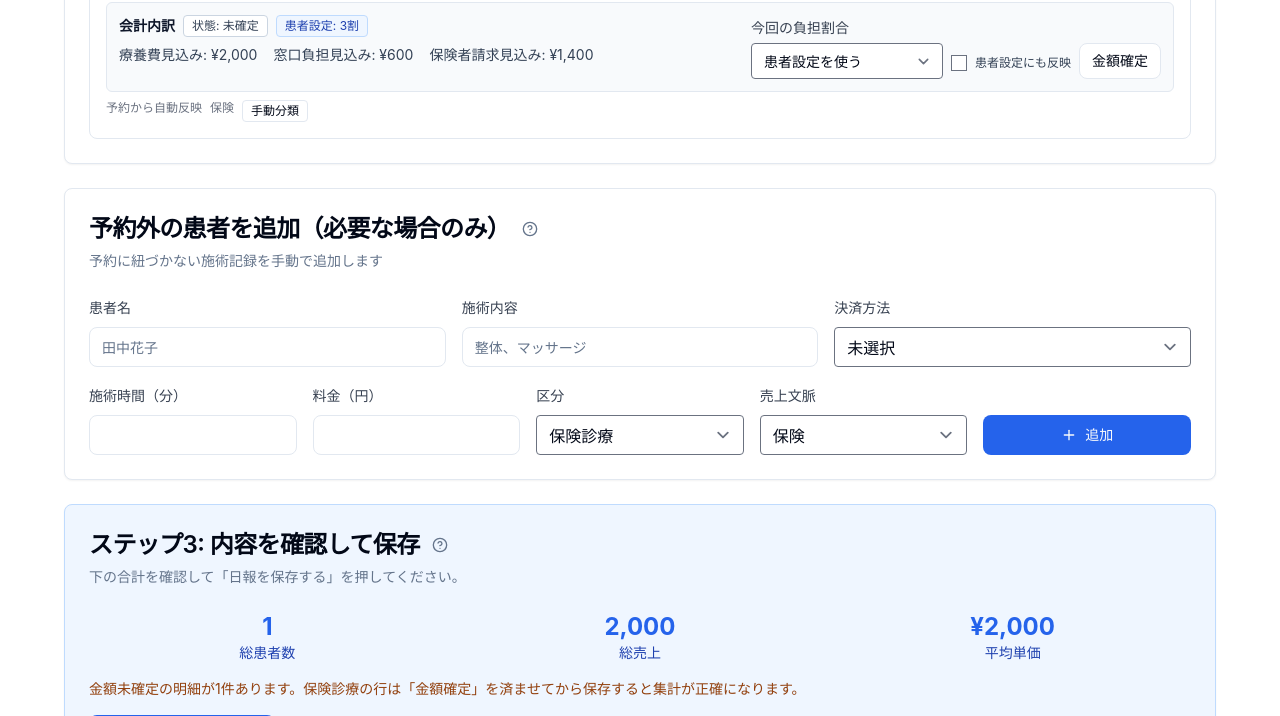
Test case: DailyReportInputPage Phase 4A-5 pricing UI › does not keep the previous date items savable when the new date load fails with an error response
(page scrolled)
Expected: the button with aria-label "山田 太郎の金額を確定" is shown, 1079,43 -> 1161,79
Click the button "追加".
click(1087, 435)  # box 983,415 -> 1191,455
(page scrolled)
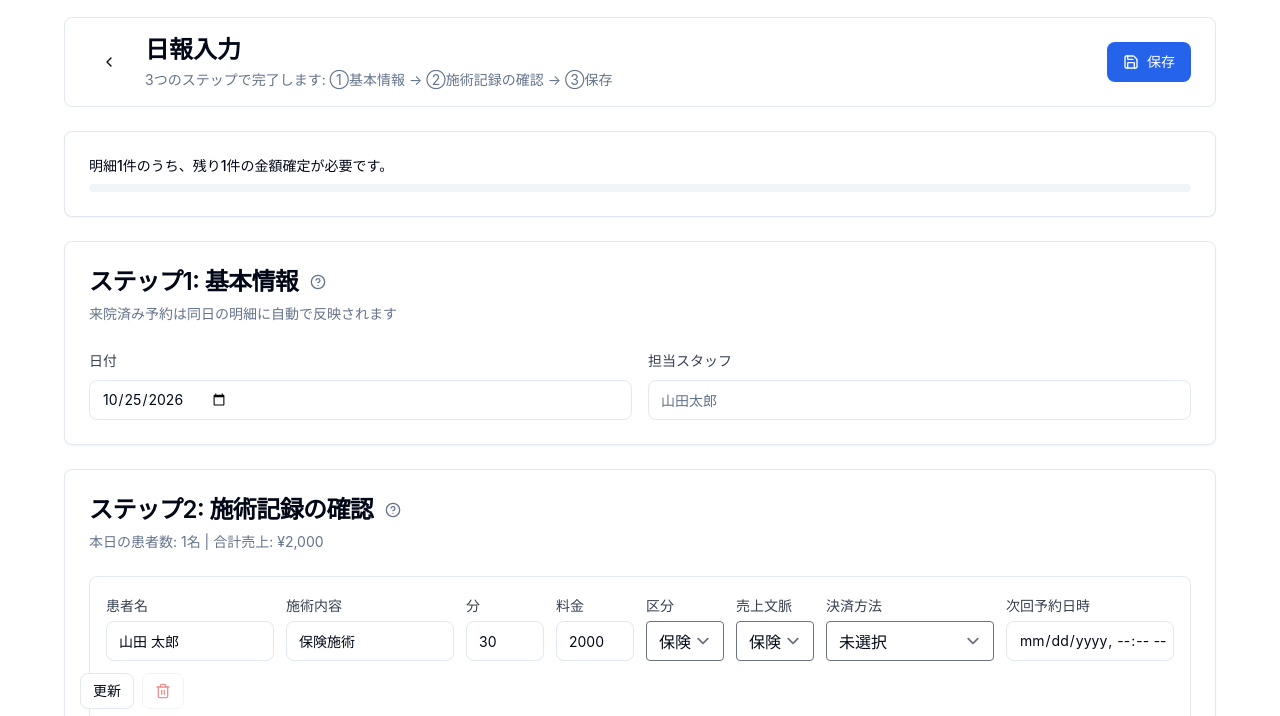
Type "2031-01-15" into the date field labelled "日付".
click(360, 400); type("2031-01-15")  # box 89,380 -> 632,420
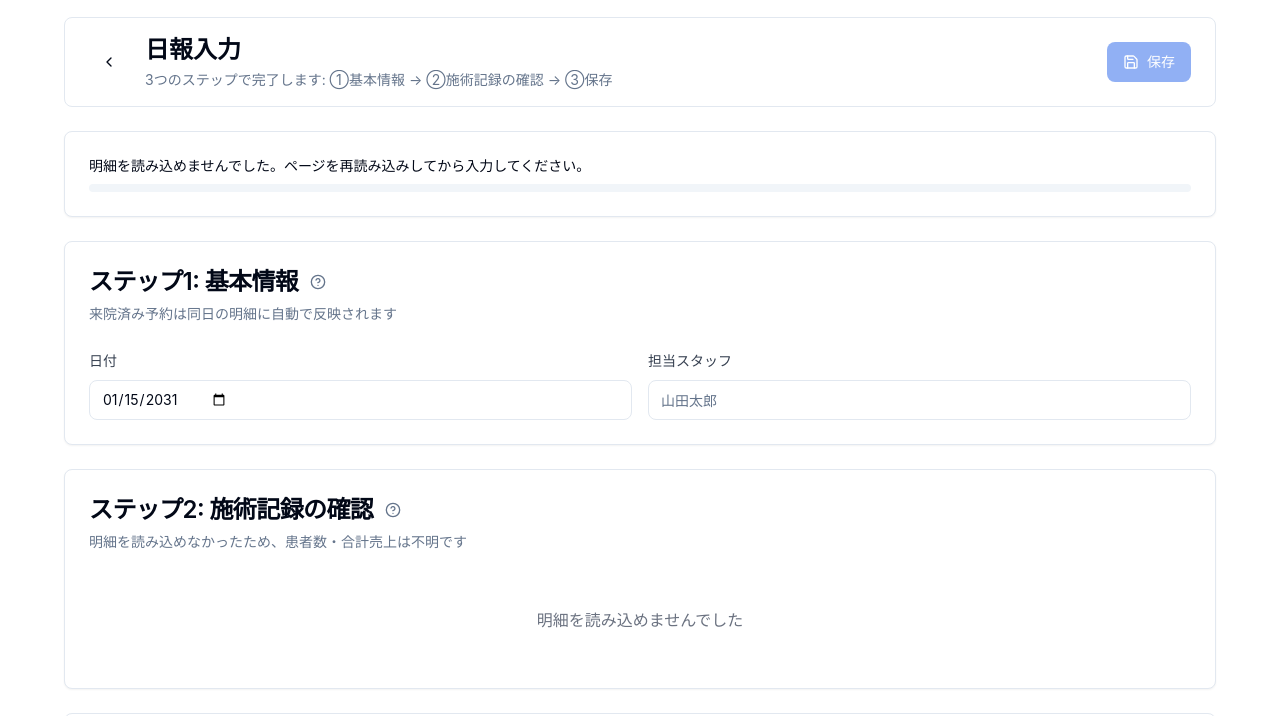
Expected: the button "保存" is disabled, 1107,42 -> 1191,82
Expected: the text "明細を読み込めませんでした。ページを再読み込みしてから入力してください。" is shown, 89,157 -> 590,174
Expected: the text "明細を読み込めなかったため、患者数・合計売上は不明です" is shown, 89,533 -> 467,550
